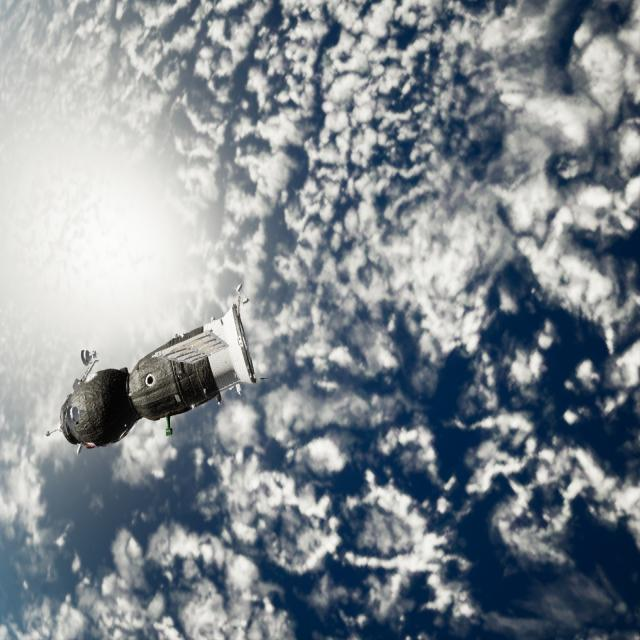Satellites revolving around earth: (47, 282, 261, 456)
